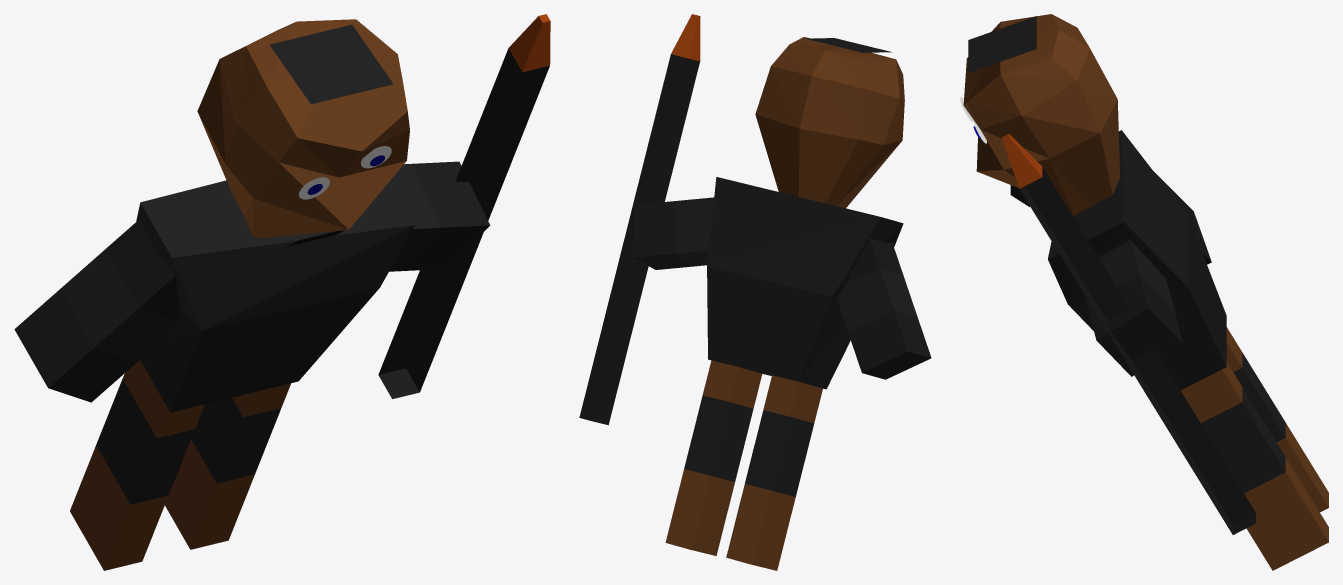
Rendered from spearman1d.obj.
3 renders of one model, left to right at view 1: azimuth 30°, elevation 25°; view 2: azimuth 150°, elevation 25°; view 3: azimuth 270°, elevation 25°, orthographic. The views are drawn at different scales.
Visible parts, largest first — view 1: Cube.001, Cube, Cube.003, Cube.004, Cube.007, Cube.005, Cube.002, Plane.002; view 2: Cube.001, Cube, Cube.007, Cube.004, Cube.005, Cube.003, Cube.002, Plane.002; view 3: Cube, Cube.001, Cube.007, Cube.005, Cube.002, Cube.004, Plane.002, Cube.003.
Boxes of the visible parts, box(x1,y1,x2,y2) form: Cube.001: box(136, 180, 414, 412); Cube: box(197, 19, 409, 238); Cube.003: box(14, 220, 179, 402); Cube.004: box(70, 360, 204, 570); Cube.007: box(378, 14, 550, 398); Cube.005: box(165, 383, 290, 549); Cube.002: box(389, 161, 490, 271); Plane.002: box(269, 24, 393, 104); Cube.001: box(707, 177, 903, 389); Cube: box(755, 37, 904, 208); Cube.007: box(579, 14, 700, 425); Cube.004: box(726, 375, 822, 570); Cube.005: box(665, 360, 762, 555); Cube.003: box(837, 238, 931, 379); Cube.002: box(633, 197, 714, 269); Plane.002: box(806, 38, 891, 52); Cube: box(963, 14, 1120, 215); Cube.001: box(1048, 130, 1226, 390); Cube.007: box(1002, 134, 1255, 534); Cube.005: box(1180, 362, 1328, 570); Cube.002: box(1084, 240, 1183, 376); Cube.004: box(1226, 327, 1328, 512); Plane.002: box(968, 16, 1036, 72); Cube.003: box(1153, 171, 1211, 264).
Size of the model in its own units: 3.88 by 5.44 by 3.52.
